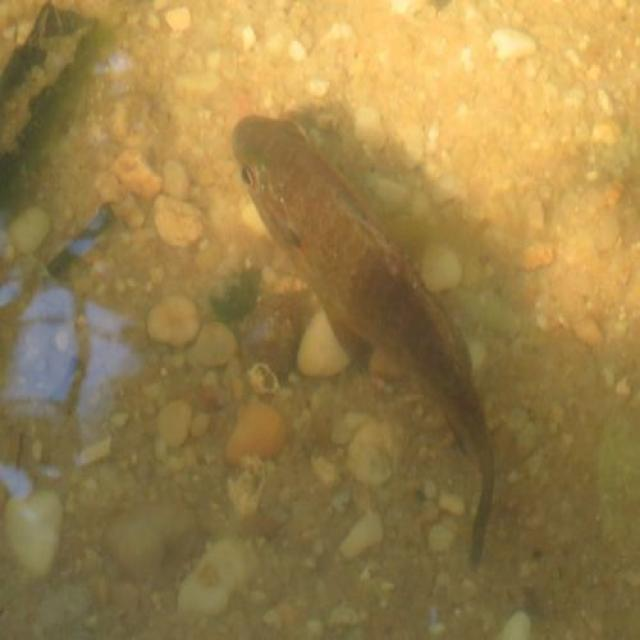Gunes Levregi: (228, 108, 501, 572)
